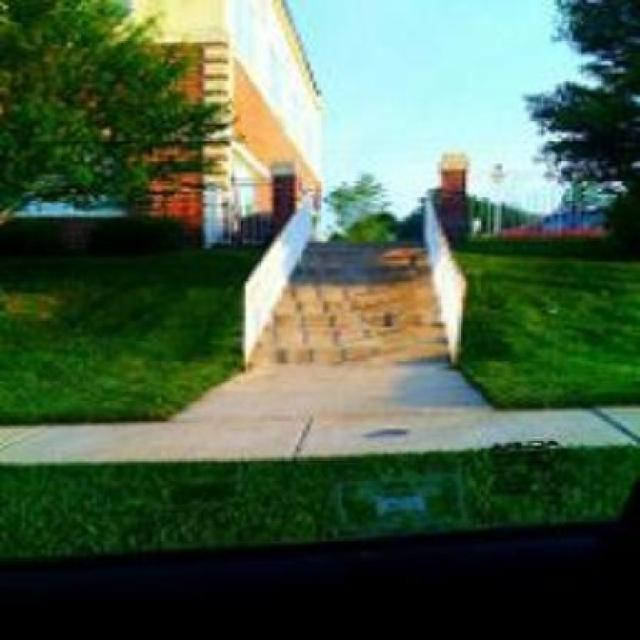stair: (248, 220, 454, 382)
